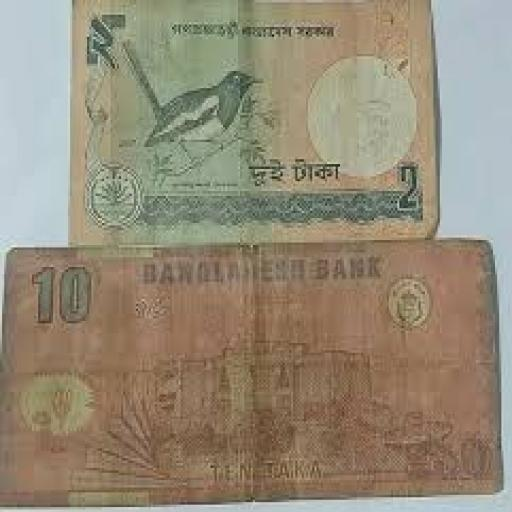10taka: (2, 240, 501, 505)
2taka: (72, 0, 438, 240)
